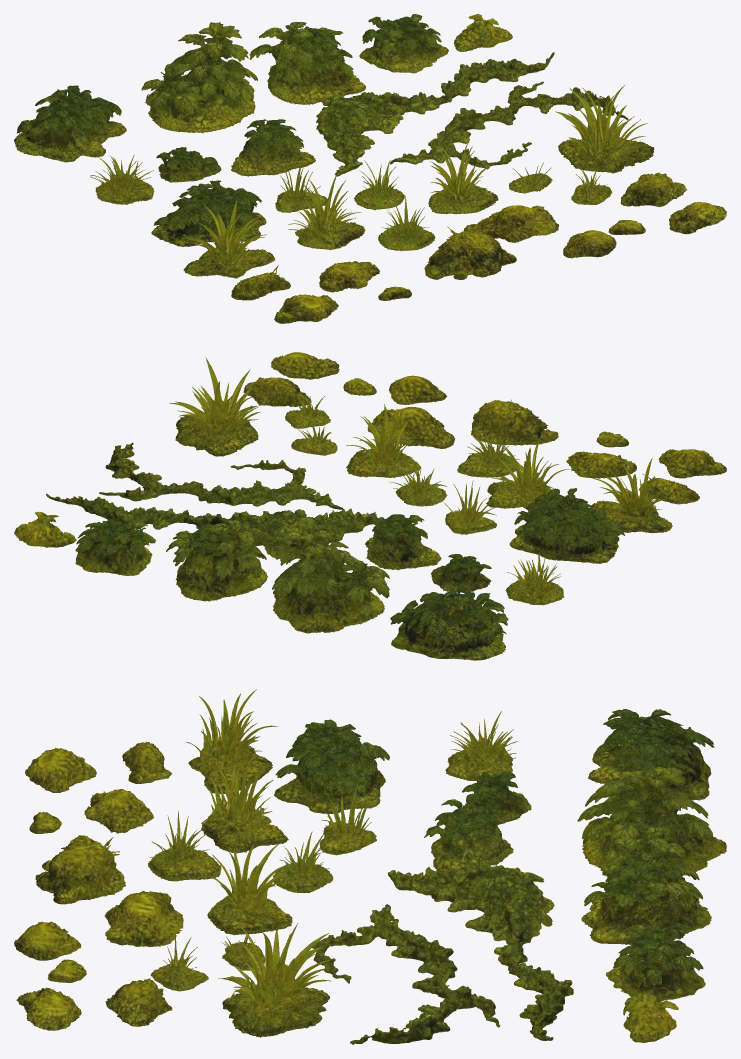
Rendered from textura grama.compressed.glb.
3 views of the same model, one above another, from view 1: azimuth 30°, elevation 25°; view 2: azimuth 150°, elevation 25°; view 3: azimuth 270°, elevation 25° (orthographic). The views are drawn at different scales.
Size of the model in its own units: 1.9 by 0.282 by 1.88.
1 material, 1 textured.
